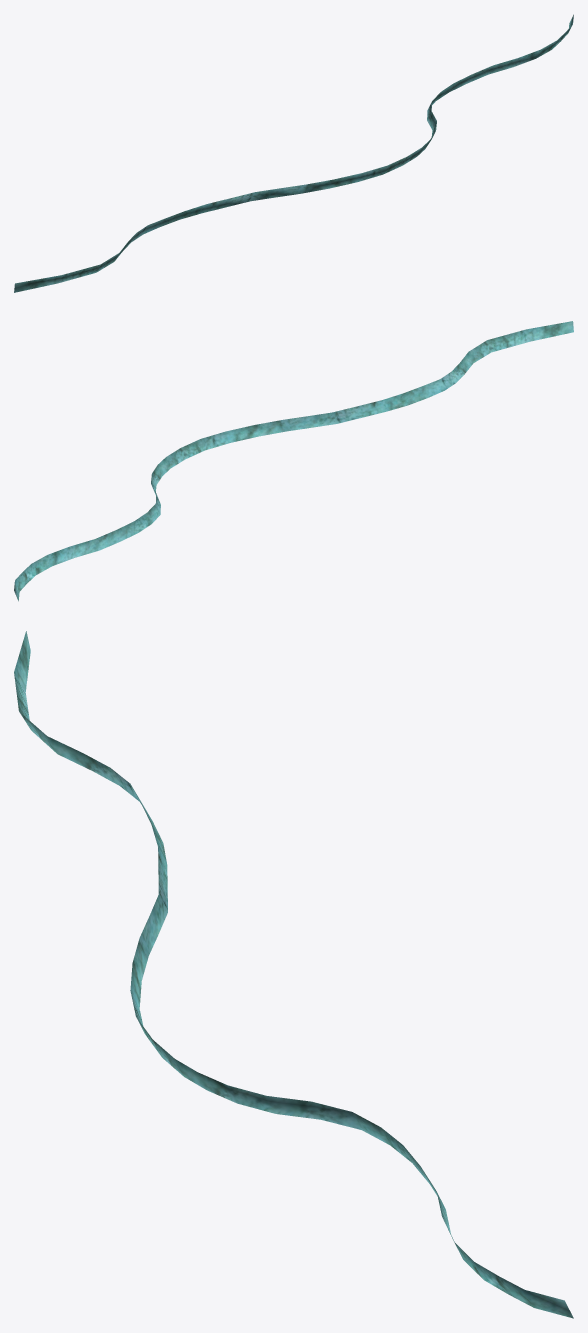
The model's file is EKH_GROTTO_PS_GR_OBJECT13.fbx.
3 renders of one model, top to bottom at view 1: azimuth 30°, elevation 25°; view 2: azimuth 210°, elevation 25°; view 3: azimuth 270°, elevation 25°, orthographic. The views are drawn at different scales.
Parts seen in each view (by area): view 1: EKH_GROTTO_PS_GR_OBJECT13; view 2: EKH_GROTTO_PS_GR_OBJECT13; view 3: EKH_GROTTO_PS_GR_OBJECT13.
Part boxes in pixels (x1=…): EKH_GROTTO_PS_GR_OBJECT13: x1=14, y1=14, x2=573, y2=292; EKH_GROTTO_PS_GR_OBJECT13: x1=14, y1=321, x2=573, y2=601; EKH_GROTTO_PS_GR_OBJECT13: x1=14, y1=631, x2=573, y2=1318.
Size of the model in its own units: 425559 by 6045 by 150279.
1 material, 1 textured.
